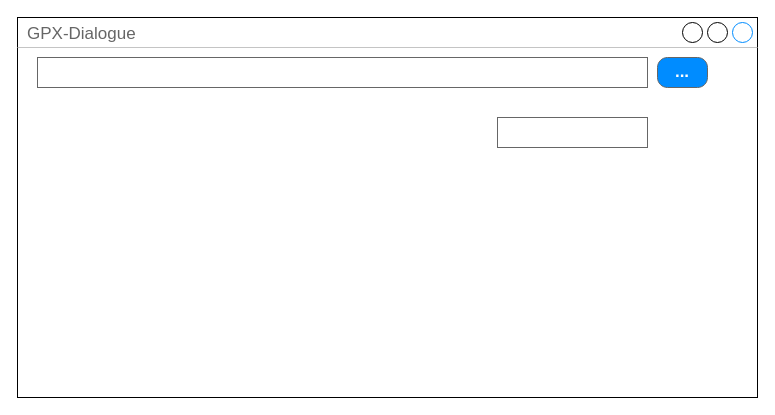
Image size: 775x415. Some labels were removed from this diagram. Here are the shapes that lost their labels. From the top down, the centre of each, then its label:
At point 342,72: "Select Path".
At point 572,132: "Line 1".
